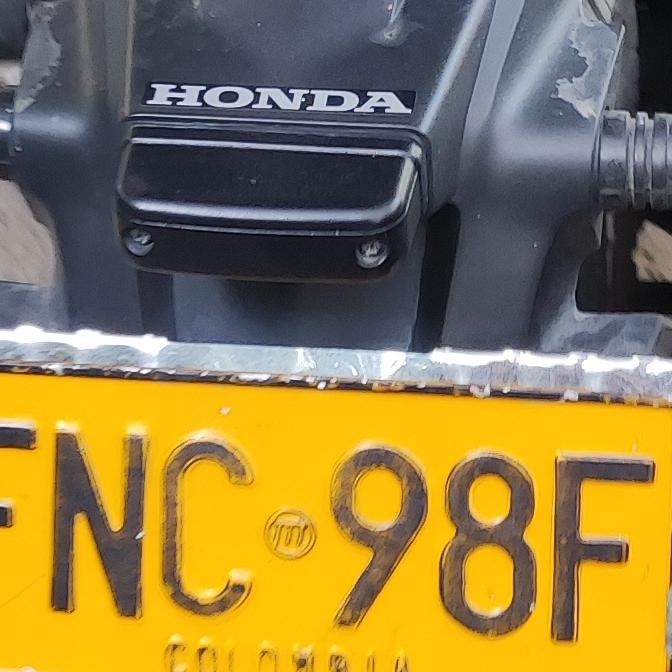plates: (0, 340, 672, 672)
